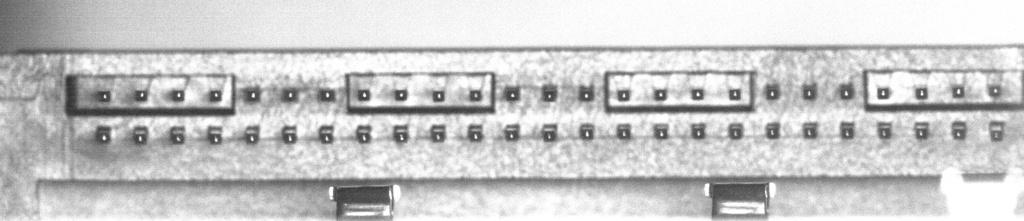pin_ok: (951, 120, 968, 140), (281, 125, 298, 144), (503, 85, 521, 102), (503, 123, 520, 141), (467, 124, 484, 142), (95, 125, 112, 143), (356, 125, 372, 143), (132, 126, 148, 144), (430, 124, 446, 142), (393, 125, 409, 143), (318, 125, 334, 143), (244, 126, 260, 144), (989, 122, 1004, 141), (541, 85, 558, 101), (615, 123, 632, 139), (728, 122, 744, 139), (801, 83, 817, 100), (243, 86, 261, 101), (318, 87, 336, 102), (207, 125, 222, 143), (170, 126, 185, 144), (840, 121, 855, 139), (579, 124, 595, 140), (578, 85, 594, 101), (802, 123, 818, 139), (914, 124, 930, 140), (542, 124, 557, 141), (839, 83, 854, 100), (281, 87, 298, 102), (653, 124, 669, 139), (765, 123, 780, 139), (691, 123, 706, 139), (877, 123, 892, 139), (765, 84, 780, 100), (469, 88, 483, 102), (616, 88, 631, 101), (653, 88, 668, 101), (987, 84, 1002, 97), (914, 86, 928, 99), (357, 88, 371, 101), (394, 88, 408, 101), (876, 86, 890, 99), (691, 87, 704, 100), (952, 85, 965, 98), (728, 88, 742, 100), (171, 89, 185, 101), (134, 89, 148, 101), (97, 90, 111, 102), (432, 90, 445, 102), (209, 89, 222, 101)
